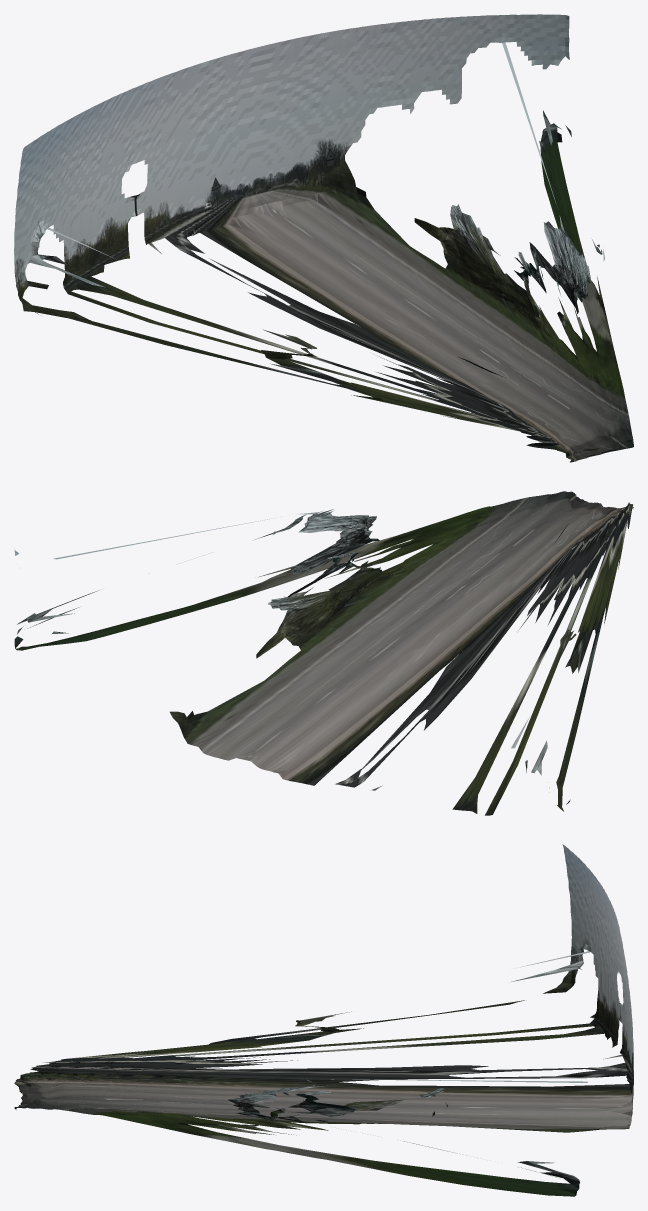
3 views of the same model, one above another, from view 1: azimuth 30°, elevation 25°; view 2: azimuth 150°, elevation 25°; view 3: azimuth 270°, elevation 25° (orthographic). The views are drawn at different scales.
Visible parts, largest first — view 1: defaultobject; view 2: defaultobject; view 3: defaultobject.
Boxes of the visible parts, left/top/right/bottom form: defaultobject: left=14, top=14, right=633, bottom=462; defaultobject: left=14, top=491, right=633, bottom=815; defaultobject: left=14, top=844, right=633, bottom=1196.
Size of the model in its own units: 40.94 by 13.02 by 44.67.
1 material, 1 textured.
